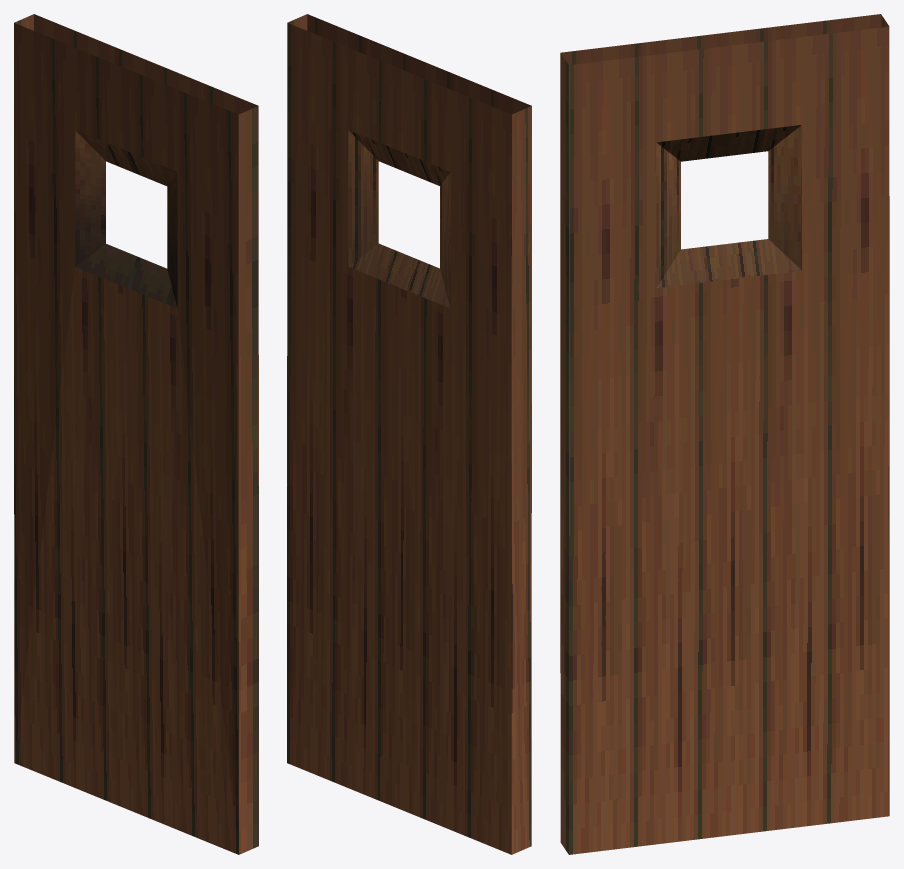
The model's file is primary_042.glb.
3 views of the same model, side by side, from view 1: azimuth 30°, elevation 25°; view 2: azimuth 210°, elevation 25°; view 3: azimuth 270°, elevation 25° (orthographic). The views are drawn at different scales.
Parts seen in each view (by area): view 1: Object; view 2: Object; view 3: Object.
Part boxes in pixels (left/top/right/bottom): Object: left=14, top=14, right=258, bottom=854; Object: left=287, top=14, right=531, bottom=854; Object: left=560, top=14, right=889, bottom=854.
Size of the model in its own units: 0.3398 by 2.44 by 0.9212.
Materials: 5 (5 with a texture image).
